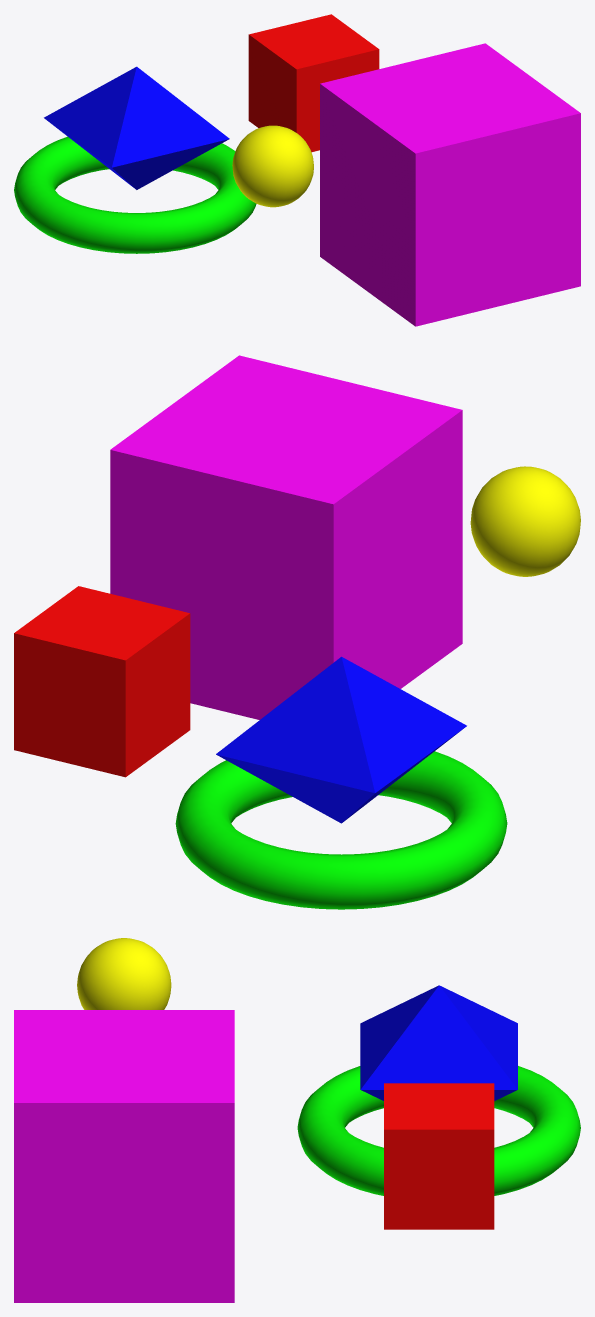
The model's file is primitives4.glb.
3 views of the same model, one above another, from view 1: azimuth 30°, elevation 25°; view 2: azimuth 150°, elevation 25°; view 3: azimuth 270°, elevation 25° (orthographic). The views are drawn at different scales.
Visible parts, largest first — view 1: Cube.008, Torus.002, Cube.006, Cube.007, Sphere.004; view 2: Cube.008, Cube.007, Torus.002, Cube.006, Sphere.004; view 3: Cube.008, Cube.007, Torus.002, Cube.006, Sphere.004.
Boxes of the visible parts, left/top/right/bottom form: Cube.008: left=320, top=43, right=580, bottom=326; Torus.002: left=14, top=136, right=256, bottom=253; Cube.006: left=44, top=66, right=229, bottom=189; Cube.007: left=248, top=14, right=379, bottom=152; Sphere.004: left=232, top=125, right=313, bottom=207; Cube.008: left=110, top=355, right=462, bottom=719; Cube.007: left=14, top=586, right=190, bottom=777; Torus.002: left=175, top=751, right=507, bottom=909; Cube.006: left=216, top=656, right=466, bottom=823; Sphere.004: left=470, top=466, right=580, bottom=576; Cube.008: left=14, top=1010, right=234, bottom=1302; Cube.007: left=384, top=1083, right=494, bottom=1229; Torus.002: left=297, top=1066, right=580, bottom=1195; Cube.006: left=360, top=985, right=517, bottom=1100; Sphere.004: left=77, top=938, right=171, bottom=1009.
Bounding box in the file's own units: 6.2 × 3 × 7.2.
